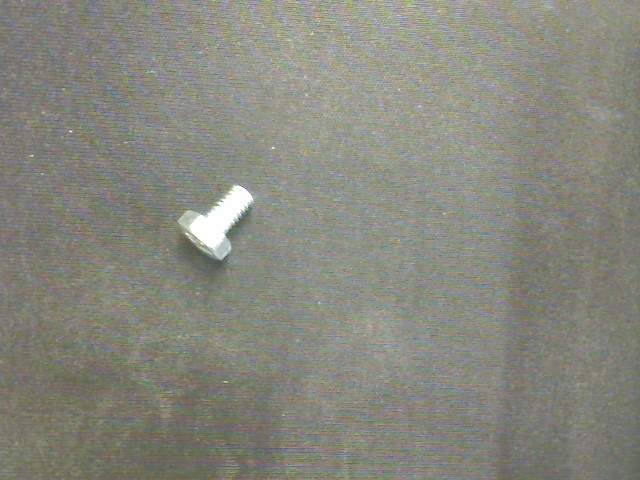screw: (177, 184, 255, 260)
